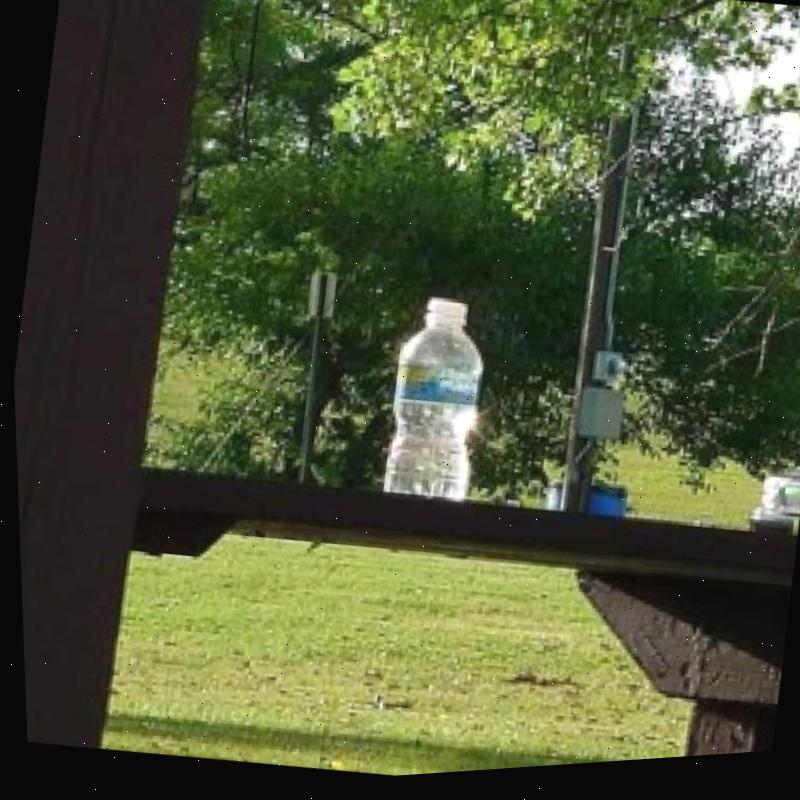botella: (367, 293, 494, 509)
